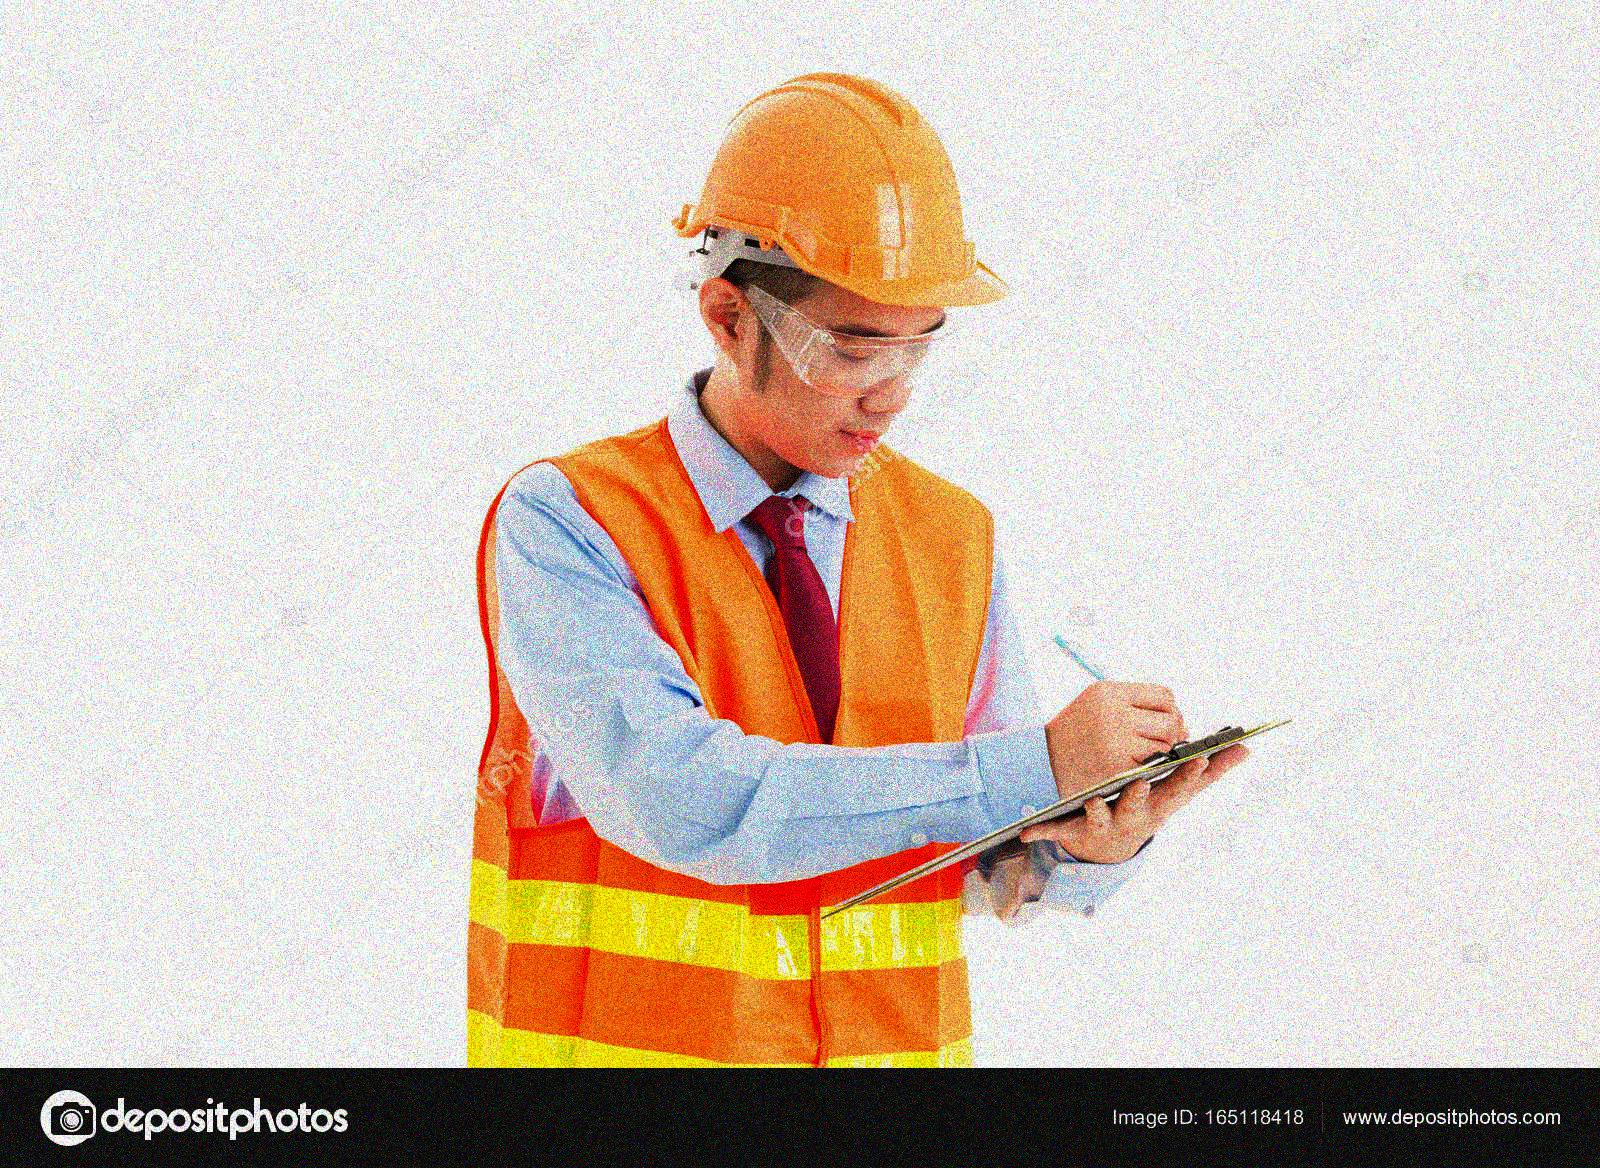helmet: (667, 71, 1015, 480)
